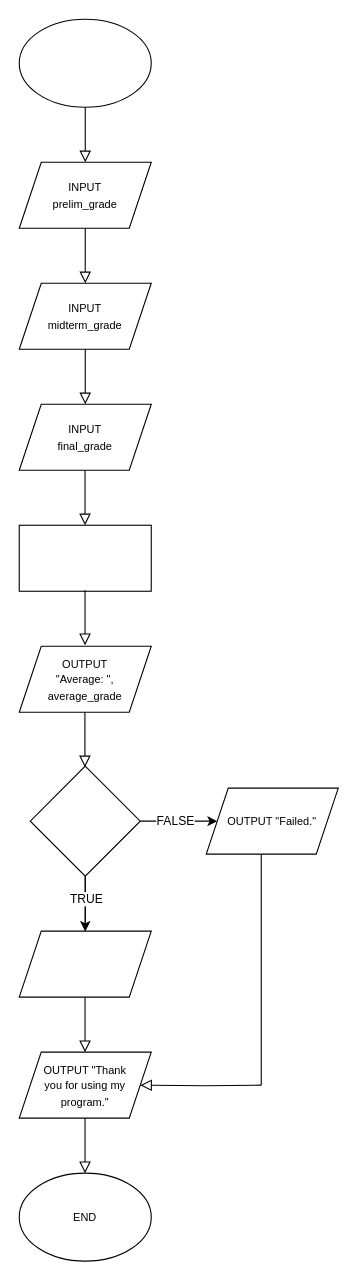
Some shapes in this 358 by 1280 pixel diagram are drawn without their labels. The shapes that lost their labels are listed below. From the top down, each one's centre as x and y in pixels, then its label:
(x=84, y=62): START
(x=84, y=557): average_grade = (prelim_grade + midterm_grade + final_grade) / 3
(x=84, y=820): IF average_grade > 75
(x=84, y=963): OUTPUT "Passed."
